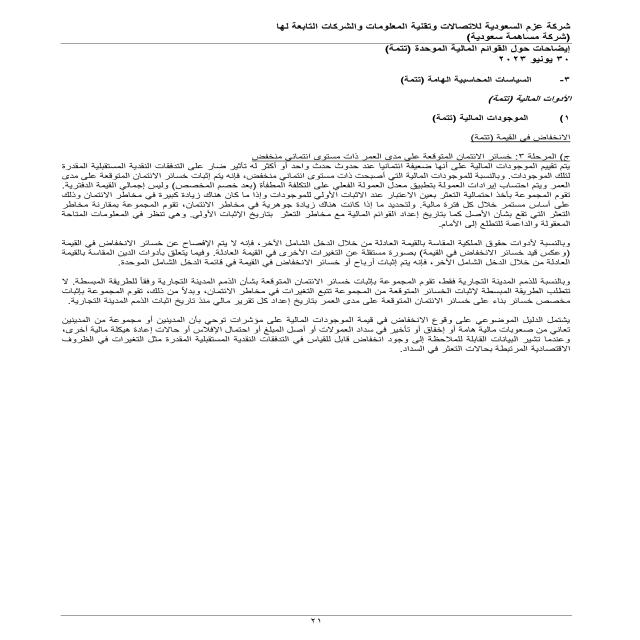notes: (350, 41, 576, 54)
text: (31, 88, 577, 360)
